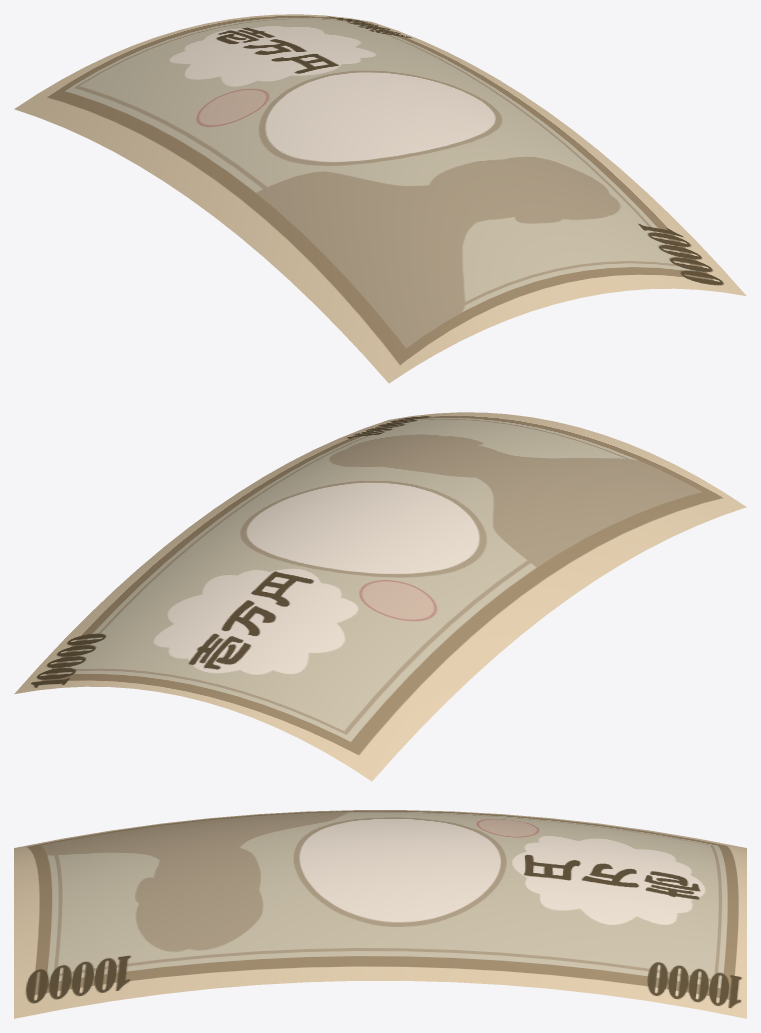
The model's file is money.dae.
The picture shows the model from 3 angles, top to bottom: view 1: azimuth 30°, elevation 25°; view 2: azimuth 150°, elevation 25°; view 3: azimuth 270°, elevation 25°; orthographic projection. The views are drawn at different scales.
Parts seen in each view (by area): view 1: SurfPatch_001; view 2: SurfPatch_001; view 3: SurfPatch_001.
Boxes of the visible parts, x1,y1,x2,y2 form: SurfPatch_001: (14, 14, 746, 383); SurfPatch_001: (14, 412, 746, 781); SurfPatch_001: (14, 810, 746, 1018).
Bounding box in the file's own units: 1.83 × 3.32 × 0.4085.
1 material, 1 textured.
